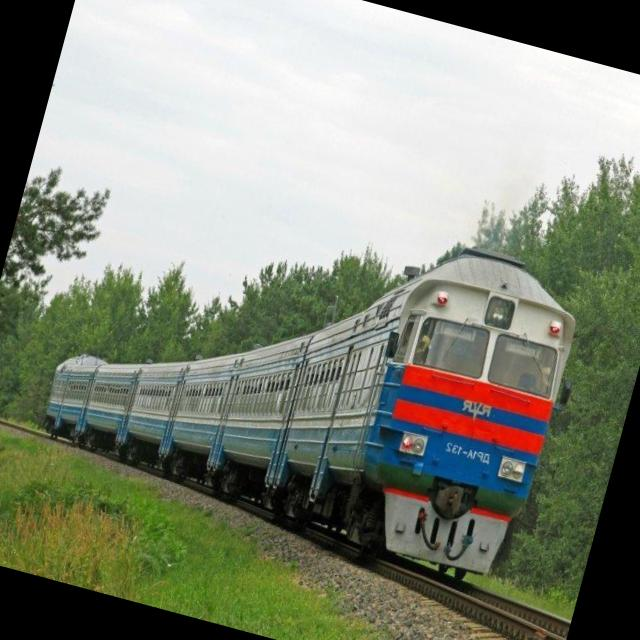trains: (43, 250, 576, 583)
